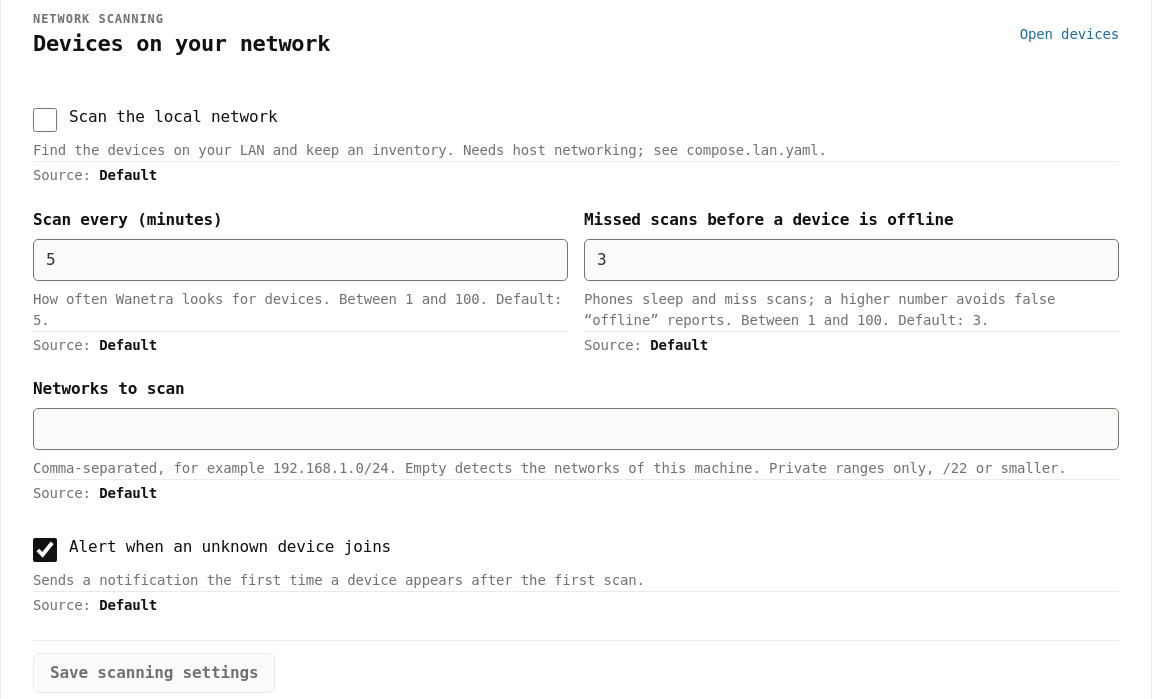
Test: network scanning settings › validates the numbers before saving
The width and height of the screenshot is (1152, 699).
Replace the text in the number field labelled "Scan every" with "0". click: (300, 260)
box: left=33, top=239, right=568, bottom=281
(page scrolled)
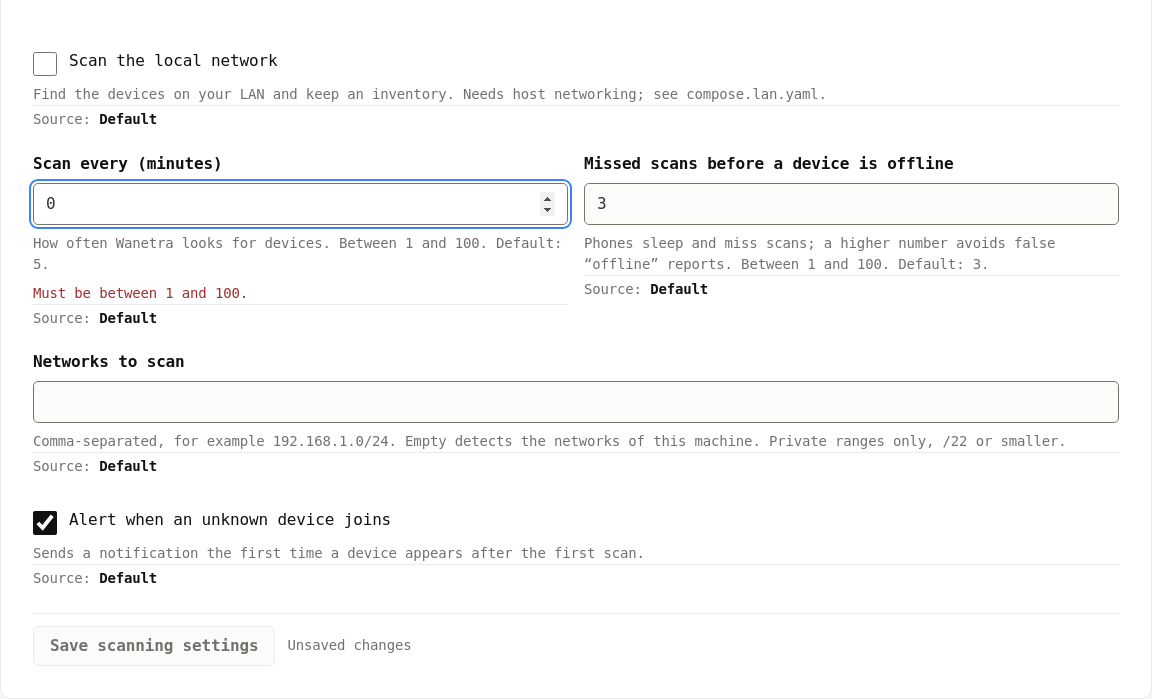
Check: the button "Save scanning settings" is disabled, box left=33, top=626, right=275, bottom=666
Check: the text "Must be between 1 and 100." is shown, box left=33, top=285, right=248, bottom=301
